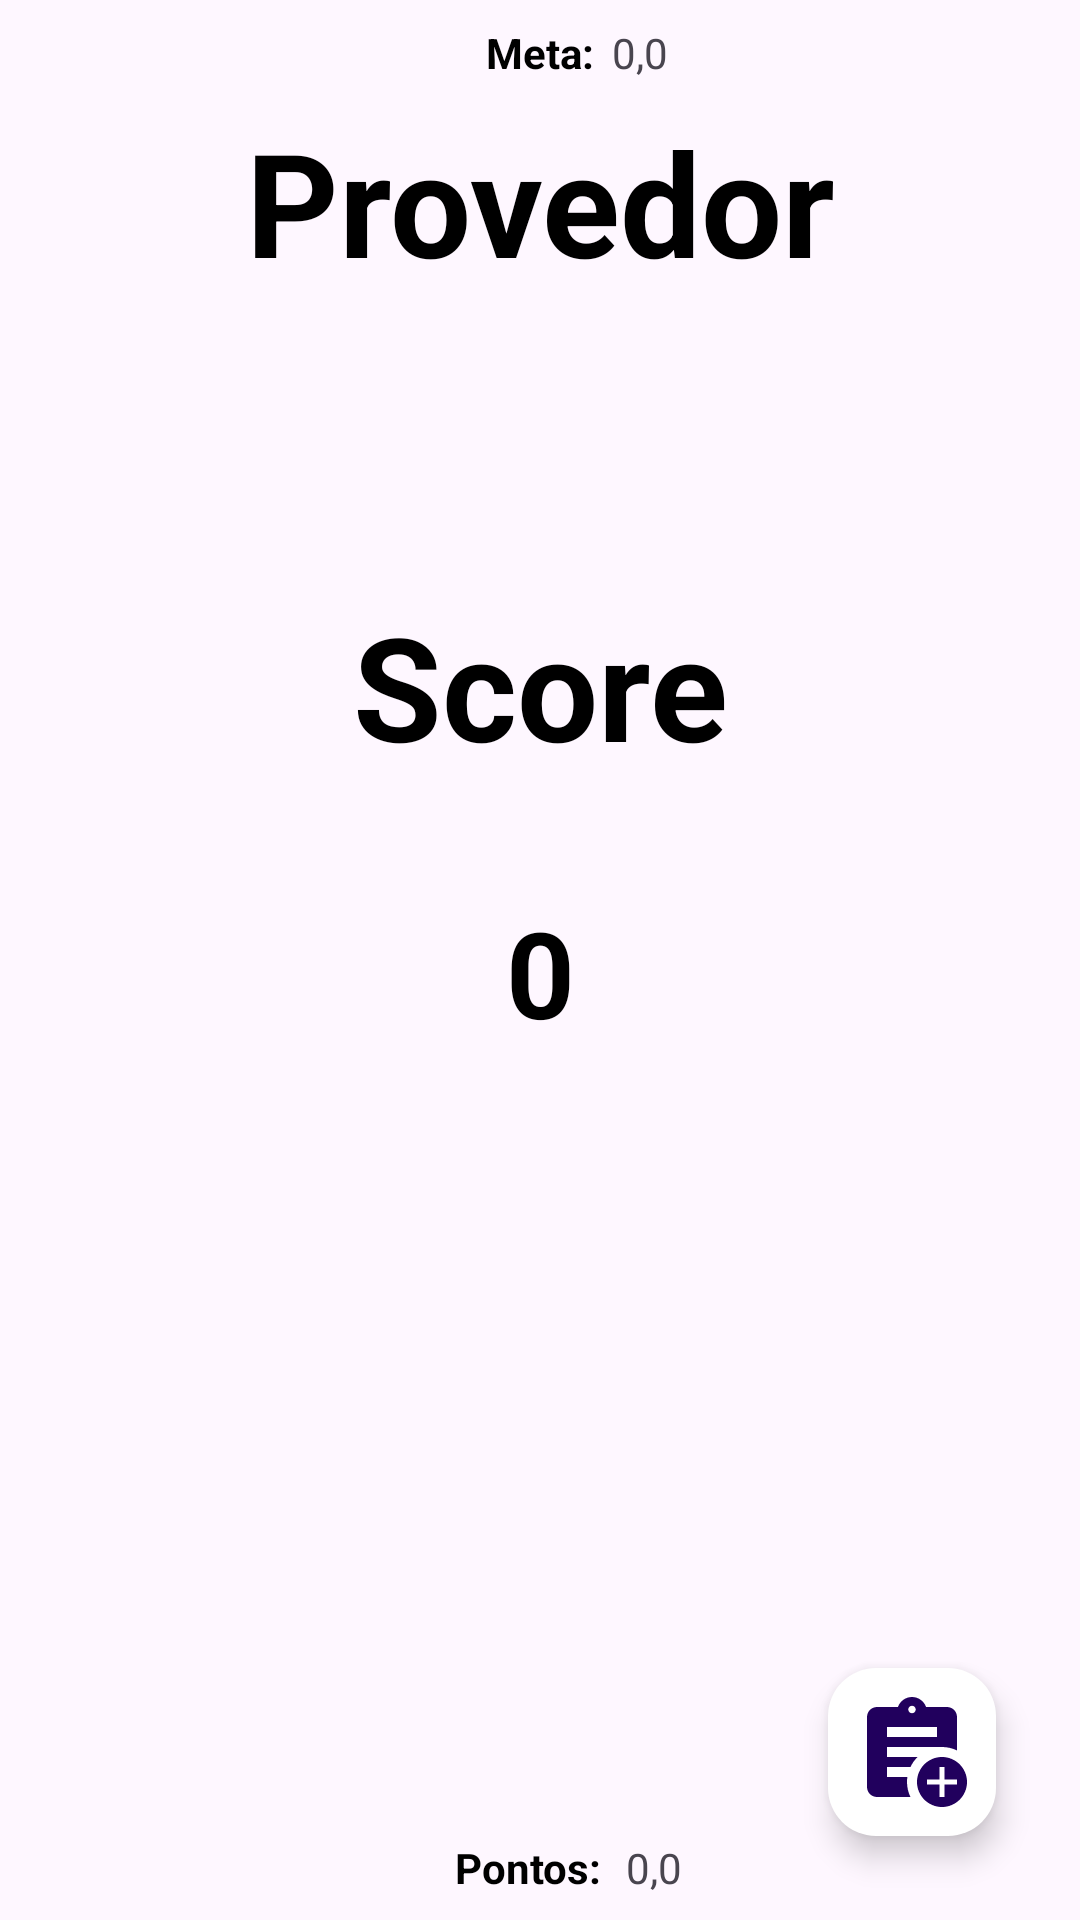

Icon bounding boxes for this 1080px×1920px phone screenshot, format (x1, y1, x2, y2):
add order: (867, 1697, 967, 1807)
